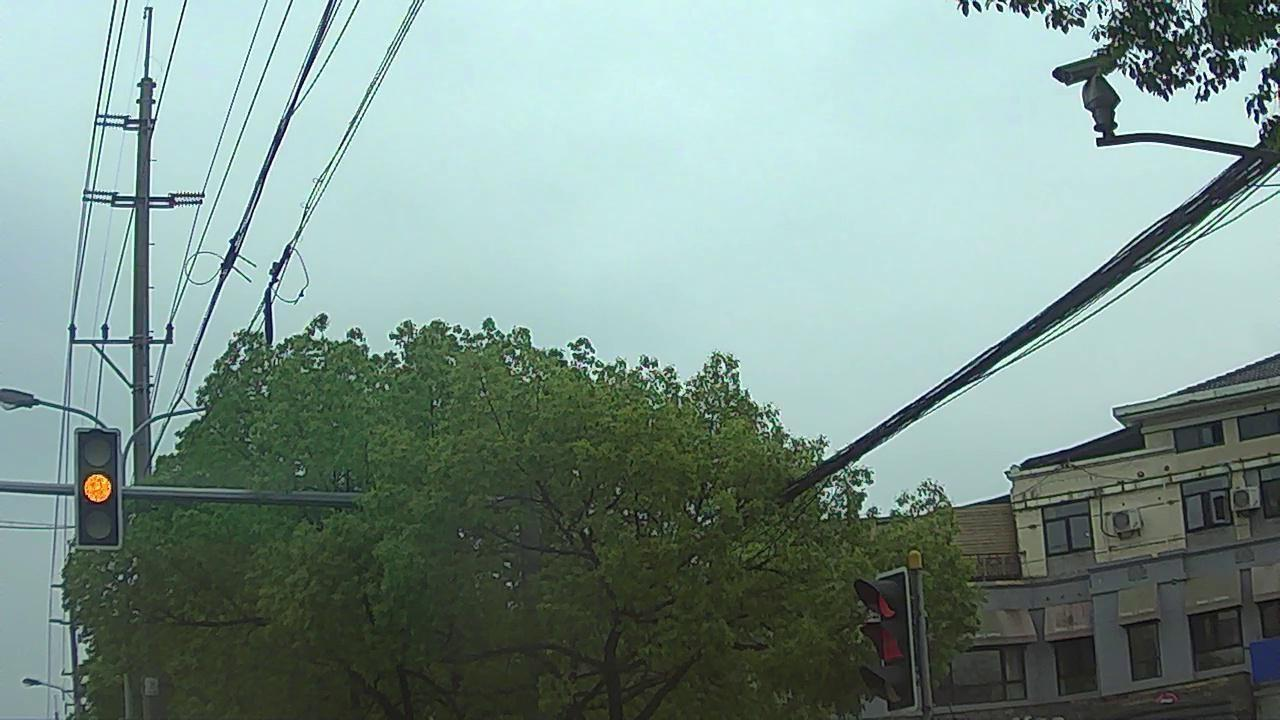traffic_light: (75, 428, 118, 544)
